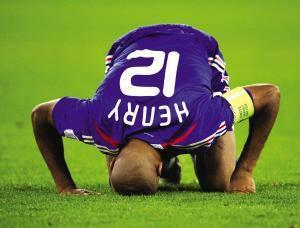Fall-Detected: (17, 12, 284, 193)
